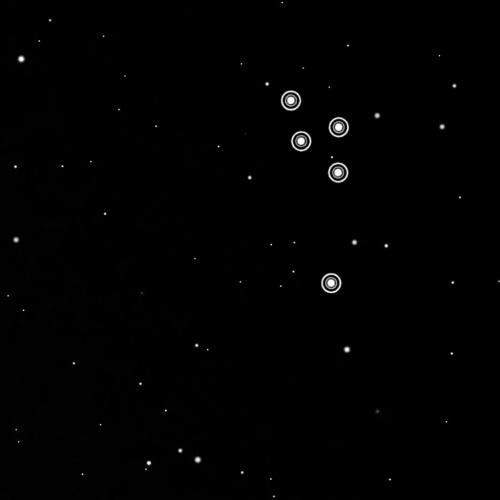delphinus: (272, 78, 359, 303)
